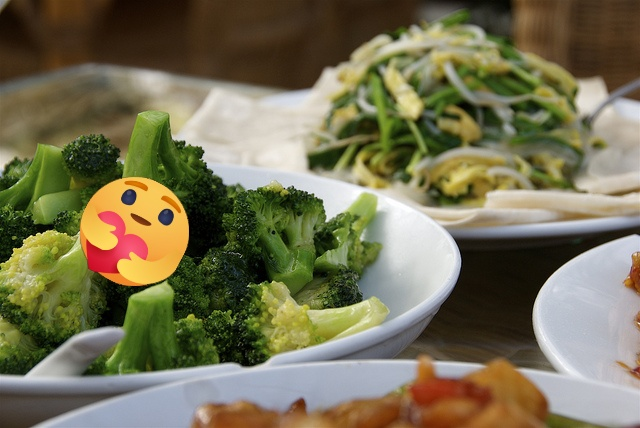care: (80, 177, 189, 286)
